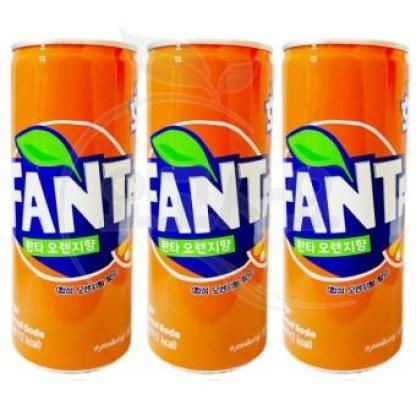alumunium_can: (274, 39, 411, 378), (8, 35, 138, 378), (148, 38, 276, 378)
